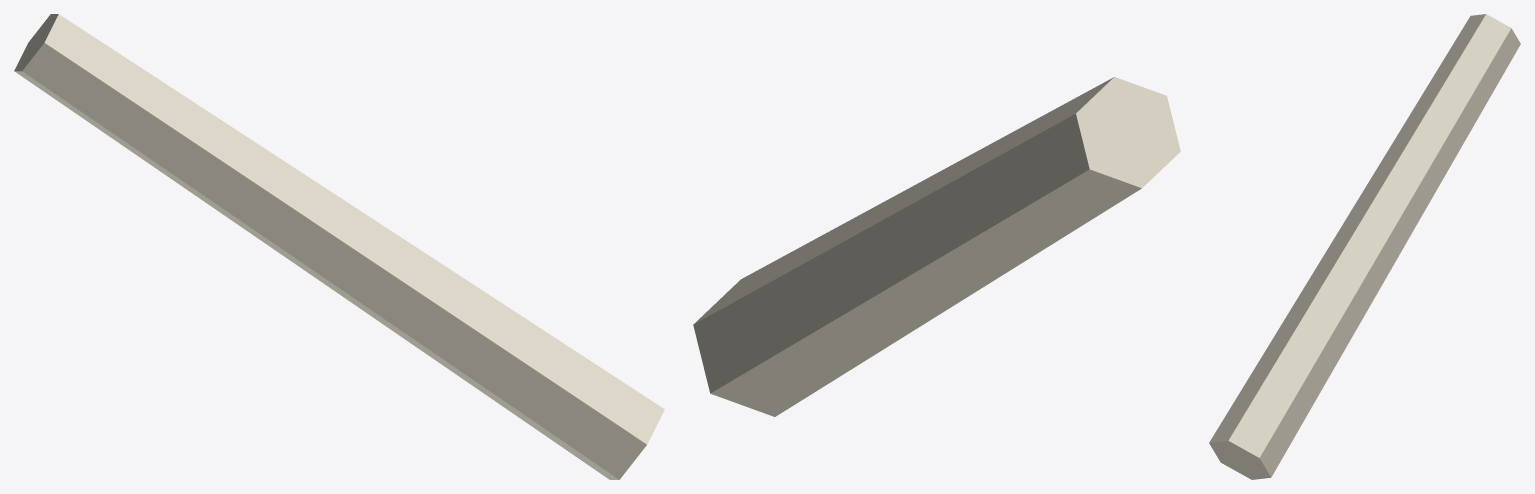
The model's file is rm2_leg_rr_femur.obj.
3 views of the same model, side by side, from view 1: azimuth 30°, elevation 25°; view 2: azimuth 150°, elevation 25°; view 3: azimuth 270°, elevation 25° (orthographic). The views are drawn at different scales.
Visible parts, largest first — view 1: rm2_leg_rr_femur; view 2: rm2_leg_rr_femur; view 3: rm2_leg_rr_femur.
Part boxes in pixels (box(x1,y1,x2,y2)): rm2_leg_rr_femur: box(14, 14, 664, 479); rm2_leg_rr_femur: box(693, 77, 1180, 416); rm2_leg_rr_femur: box(1209, 14, 1520, 479).
Size of the model in its own units: 0.4802 by 0.4225 by 0.3665.
